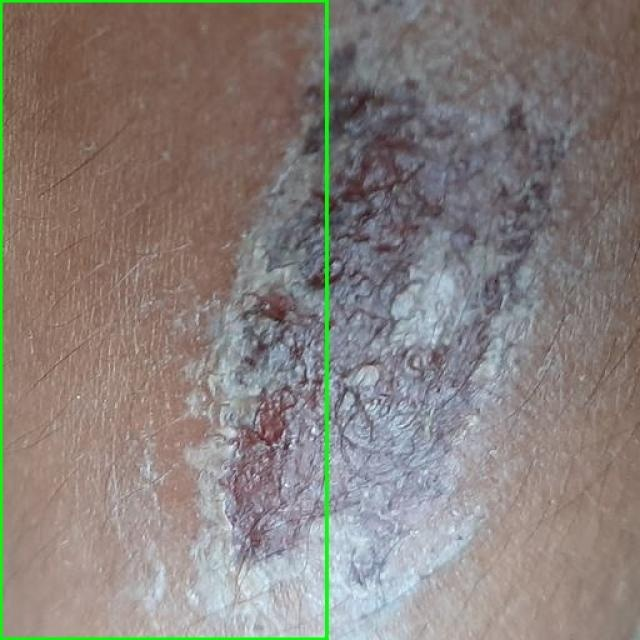Atopic Dermatitis: (0, 0, 326, 639)
